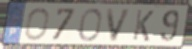7: (51, 7, 77, 42)
9: (158, 8, 181, 43)
K: (131, 9, 156, 43)
O: (77, 7, 104, 43), (24, 7, 51, 42)
V: (106, 7, 134, 44)
